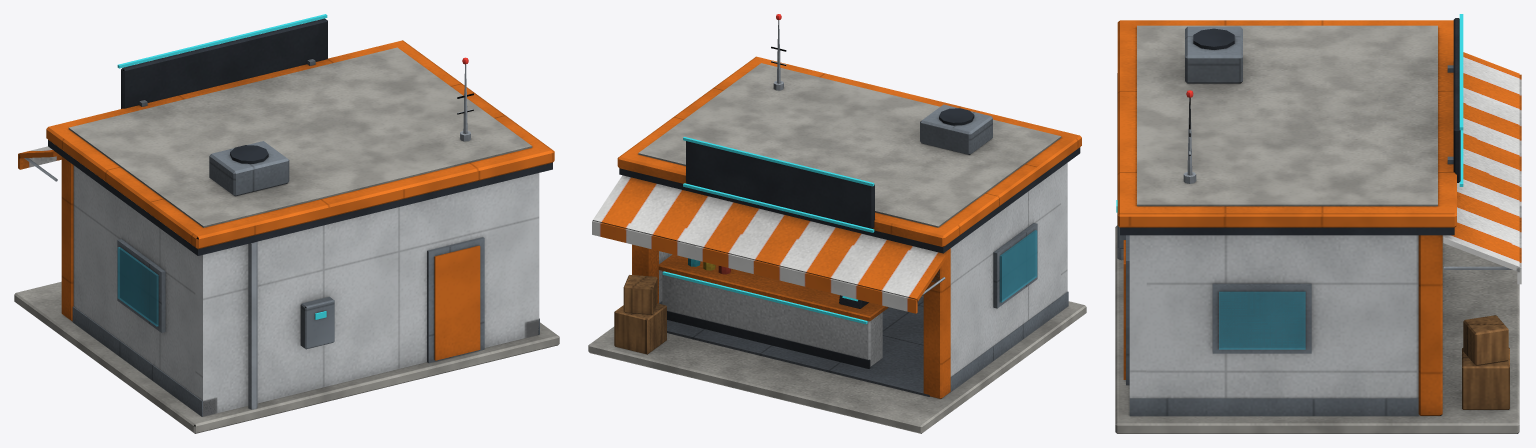
The model's file is tienda_humana.fbx.
3 renders of one model, left to right at view 1: azimuth 30°, elevation 25°; view 2: azimuth 150°, elevation 25°; view 3: azimuth 270°, elevation 25°, orthographic. The views are drawn at different scales.
Visible parts, largest first — view 1: tienda_humana, tienda_humana_cartel, tienda_humana_cristal, tienda_humana_neon; view 2: tienda_humana, tienda_humana_cartel, tienda_humana_neon, tienda_humana_cristal; view 3: tienda_humana, tienda_humana_cristal, tienda_humana_cartel, tienda_humana_neon.
Part boxes in pixels (bbox=[...]): tienda_humana: bbox=[14, 40, 559, 433]; tienda_humana_cartel: bbox=[121, 18, 327, 108]; tienda_humana_cristal: bbox=[117, 247, 158, 326]; tienda_humana_neon: bbox=[117, 14, 327, 319]; tienda_humana: bbox=[588, 20, 1086, 433]; tienda_humana_cartel: bbox=[686, 141, 874, 228]; tienda_humana_neon: bbox=[662, 137, 874, 324]; tienda_humana_cristal: bbox=[999, 230, 1037, 302]; tienda_humana: bbox=[1115, 20, 1521, 433]; tienda_humana_cristal: bbox=[1219, 291, 1305, 349]; tienda_humana_cartel: bbox=[1453, 18, 1460, 182]; tienda_humana_neon: bbox=[1116, 14, 1463, 212].
Bounding box in the file's own units: 19.6 × 14.25 × 16.88.
Materials: 3 (3 with a texture image).
